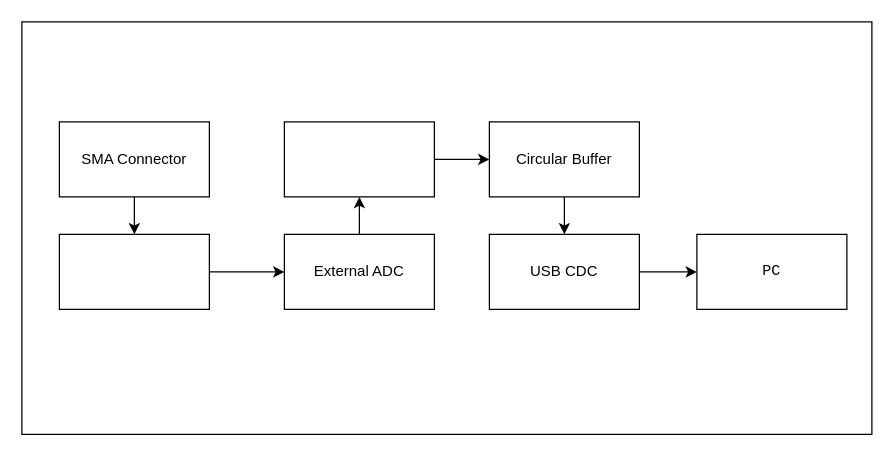
The diagram is 894 pixels wide and 456 high, and some of its shapes have lost their labels. Here are the shapes that lost their labels. From the top down, the centre of each, then its label:
[358,159]: DMA
[133,271]: Anti Alias Filter
